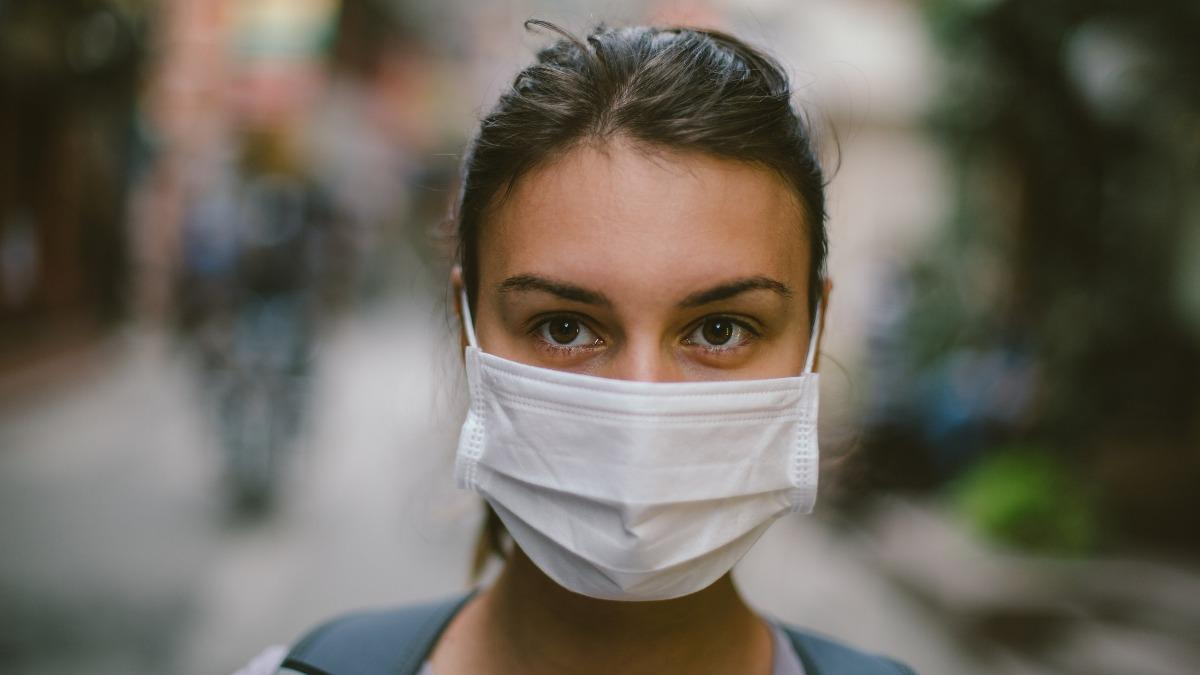mask: (448, 333, 852, 613)
